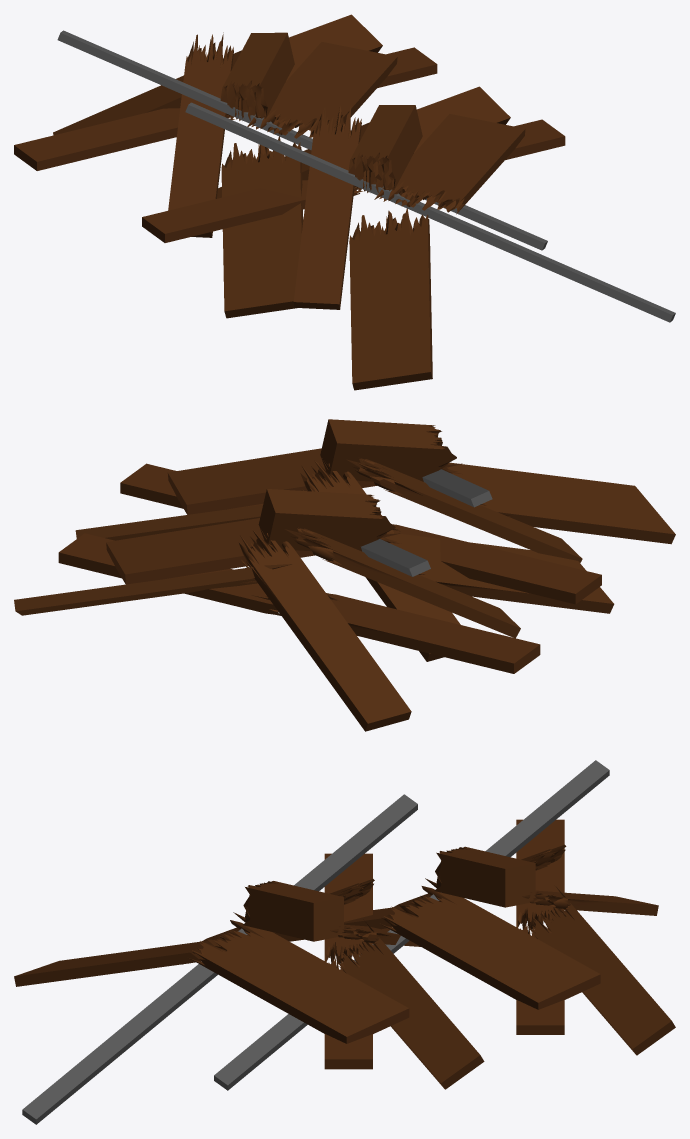
Rendered from WoodDebris.fbx.
The picture shows the model from 3 angles, top to bottom: view 1: azimuth 30°, elevation 25°; view 2: azimuth 150°, elevation 25°; view 3: azimuth 270°, elevation 25°; orthographic projection. The views are drawn at different scales.
Visible parts, largest first — view 1: Cube, Cube.018, Cube.005, Cube.001, Cube.019, Cube.023, Cube.007, Cube.020, Cube.002, Cube.026, Cube.008, Cube.025 (+5 smaller); view 2: Cube.024, Cube, Cube.020, Cube.019, Cube.001, Cube.008, Cube.026, Cube.002, Cube.023, Cube.005, Cube.018, Cube.022 (+6 smaller); view 3: Cube.001, Cube.019, Cube.007, Cube.022, Cube.004, Cube.025, Cube.026, Cube.008, Cube, Cube.020, Cube.002, Cube.024 (+6 smaller).
Boxes of the visible parts, x1,y1,x2,y2 form: Cube: (349,208,432,390); Cube.018: (221,136,303,318); Cube.005: (293,105,361,309); Cube.001: (374,114,525,214); Cube.019: (247,42,397,138); Cube.023: (168,32,233,237); Cube.007: (185,102,675,322); Cube.020: (14,108,234,170); Cube.002: (142,180,362,242); Cube.026: (220,32,294,120); Cube.008: (348,105,422,192); Cube.025: (57,30,547,250); Cube.024: (239,526,411,731); Cube: (441,462,675,544); Cube.020: (326,593,540,673); Cube.019: (106,518,400,584); Cube.001: (167,448,462,514); Cube.008: (320,419,456,481); Cube.026: (258,489,395,551); Cube.002: (392,524,601,604); Cube.023: (285,527,520,638); Cube.005: (346,458,582,562); Cube.018: (380,532,614,613); Cube.022: (14,564,292,615); Cube.001: (187,912,409,1043); Cube.019: (379,878,600,1009); Cube.007: (22,794,417,1124); Cube.022: (529,886,675,1055); Cube.004: (337,919,484,1089); Cube.025: (214,760,609,1090); Cube.026: (434,846,535,907); Cube.008: (242,881,343,941); Cube: (14,939,218,986); Cube.020: (516,819,564,930); Cube.002: (324,853,372,963); Cube.024: (522,890,658,915).
Size of the model in its own units: 419 by 166 by 520.
